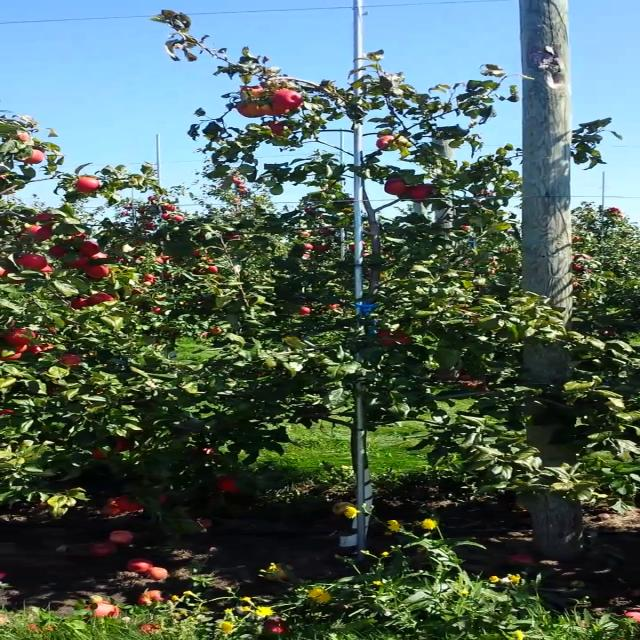apple: (272, 89, 306, 107), (2, 328, 36, 346), (215, 475, 245, 494), (16, 254, 47, 270), (377, 330, 407, 346), (236, 102, 270, 116), (407, 184, 435, 200), (118, 496, 142, 512), (385, 180, 408, 196), (261, 122, 287, 136), (24, 226, 50, 240), (88, 292, 114, 306), (75, 178, 98, 192), (23, 150, 45, 164), (78, 240, 99, 254), (86, 266, 110, 278), (68, 255, 90, 268), (241, 85, 261, 99), (268, 106, 294, 116), (69, 299, 90, 311), (105, 498, 123, 512), (376, 136, 395, 149), (50, 245, 69, 257), (114, 438, 130, 452), (62, 354, 81, 364), (1, 266, 16, 278), (2, 353, 24, 361), (34, 214, 55, 222), (73, 232, 89, 242), (12, 344, 28, 354), (624, 456, 637, 468), (17, 132, 31, 140), (198, 447, 216, 453), (27, 346, 40, 354), (93, 449, 103, 459), (92, 253, 108, 259), (42, 343, 52, 352), (42, 266, 52, 274), (2, 408, 15, 414), (0, 173, 8, 180), (160, 494, 167, 501)
